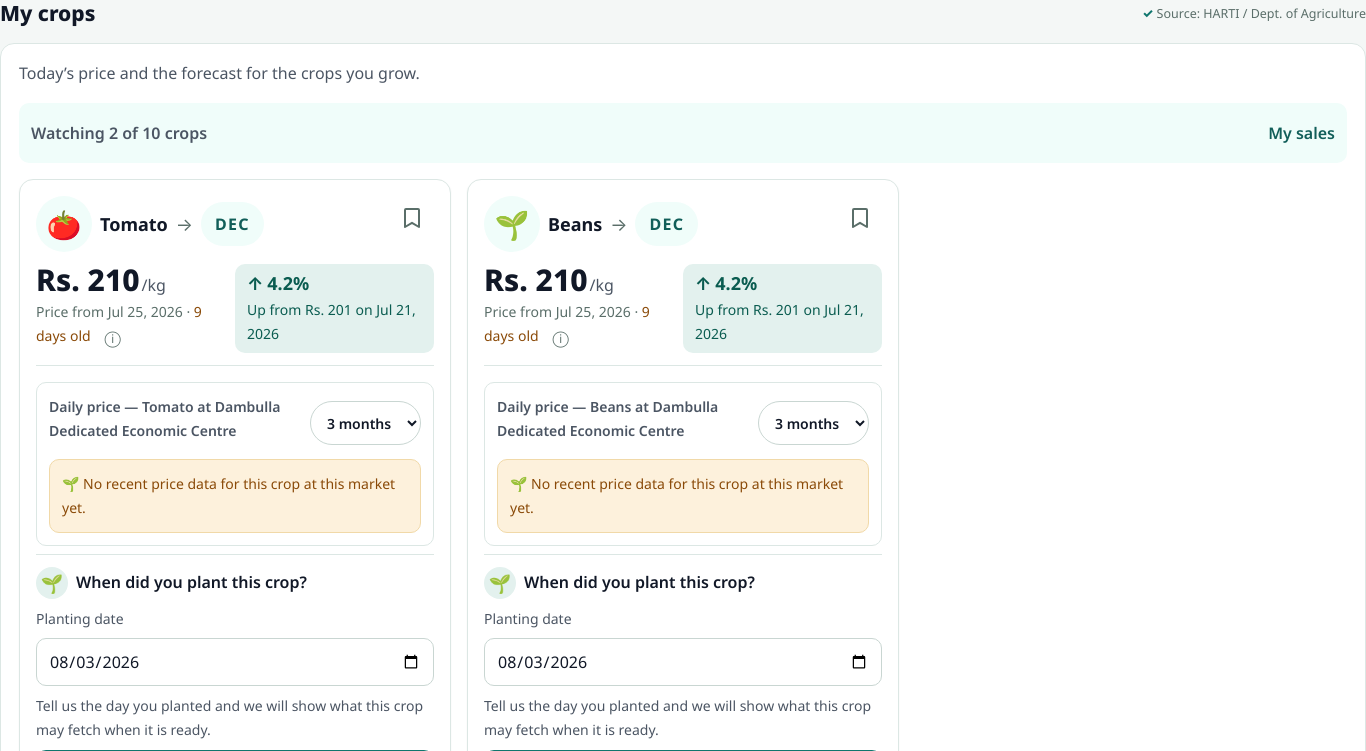
Test case: PortfolioPage — remove by ticking › backing out of the confirm deletes nothing and keeps the tick
Click the checkbox named "Tick Tomato to remove it": (412, 218) [400,196,424,240]
(page scrolled)
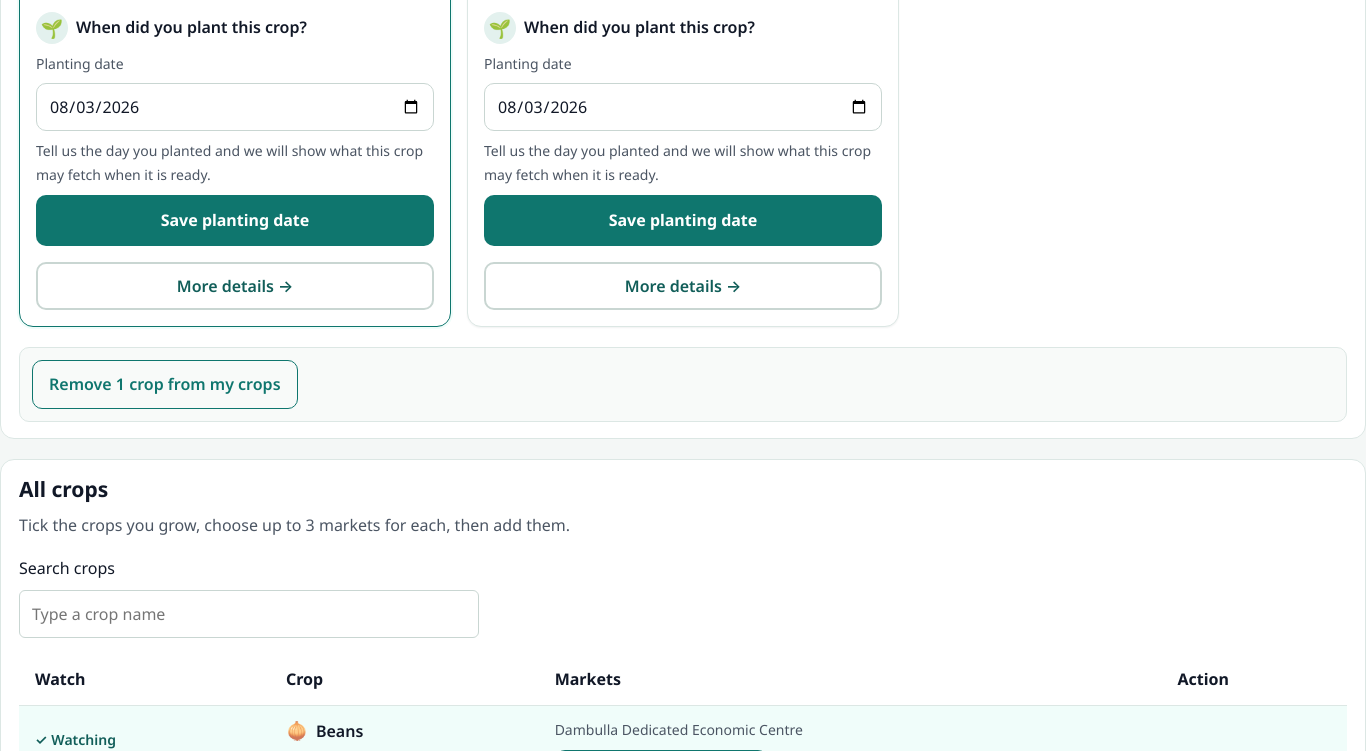
Click the button "Remove 1 crop from my crops": (165, 385) [32,360,298,409]
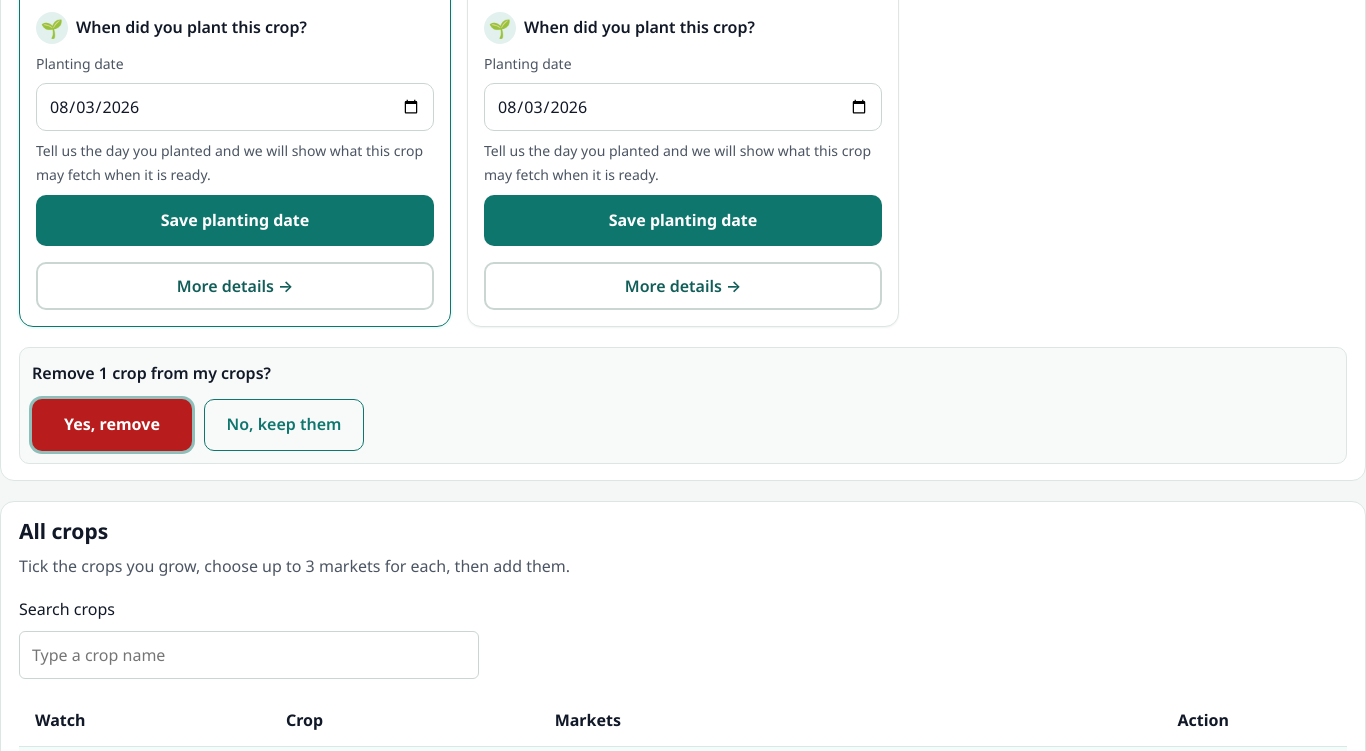
Click the button "No, keep them": (284, 425) [204,399,364,451]
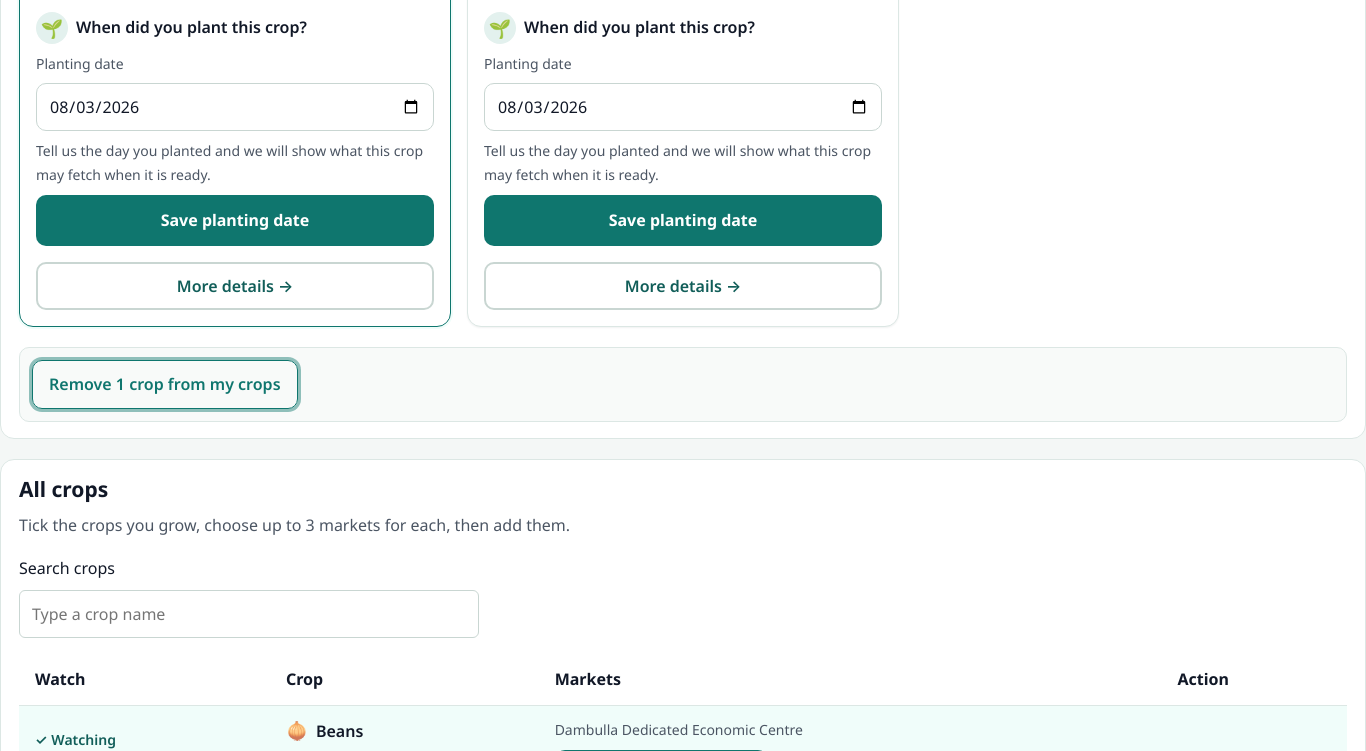
Expected: the button "Remove 1 crop from my crops" is shown, [32,360,298,409]
